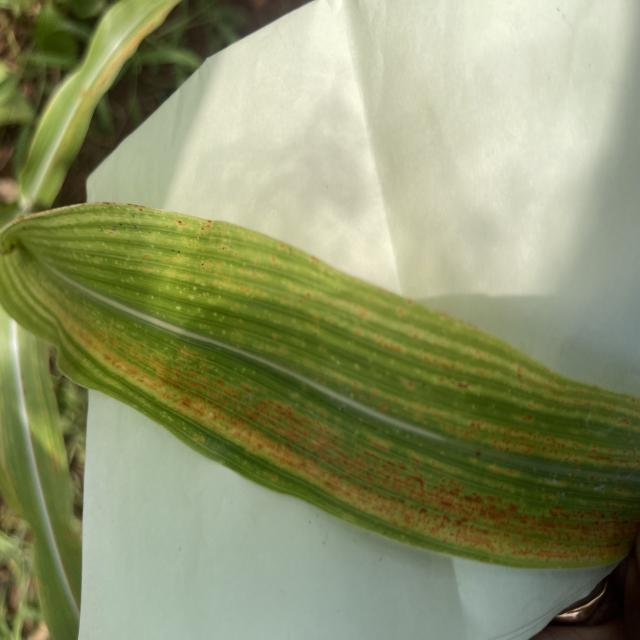millet_rust: (2, 208, 638, 570)
